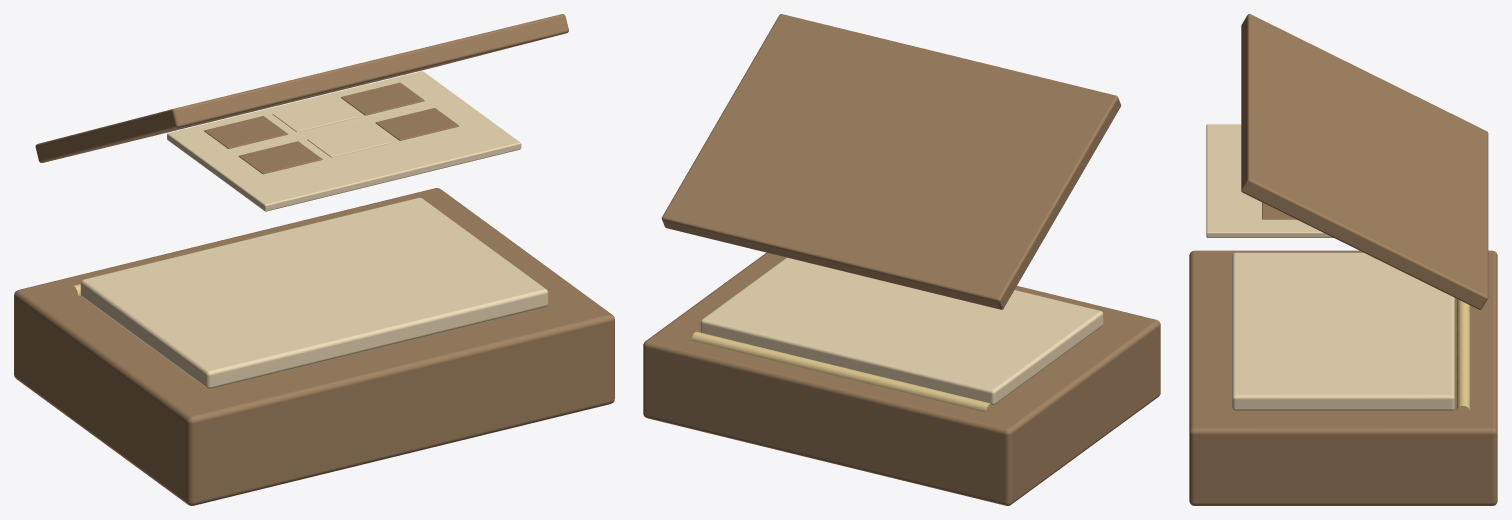
File: marquetry-and-veneer-inlay-workshop-original-inlaid-wr-6dabc8bb__39130.glb
3 renders of one model, left to right at view 1: azimuth 30°, elevation 25°; view 2: azimuth 150°, elevation 25°; view 3: azimuth 270°, elevation 25°, orthographic. The views are drawn at different scales.
Visible parts, largest first — view 1: original-inlaid-writing-slope; view 2: original-inlaid-writing-slope; view 3: original-inlaid-writing-slope.
Part boxes in pixels (bbox=[...]): original-inlaid-writing-slope: bbox=[14, 14, 614, 505]; original-inlaid-writing-slope: bbox=[643, 14, 1160, 505]; original-inlaid-writing-slope: bbox=[1189, 14, 1497, 505].
Size of the model in its own units: 0.5 by 0.4132 by 0.36.
